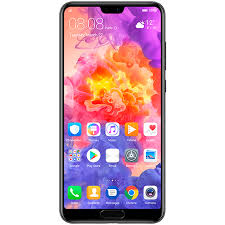huawei: (56, 1, 167, 224)
